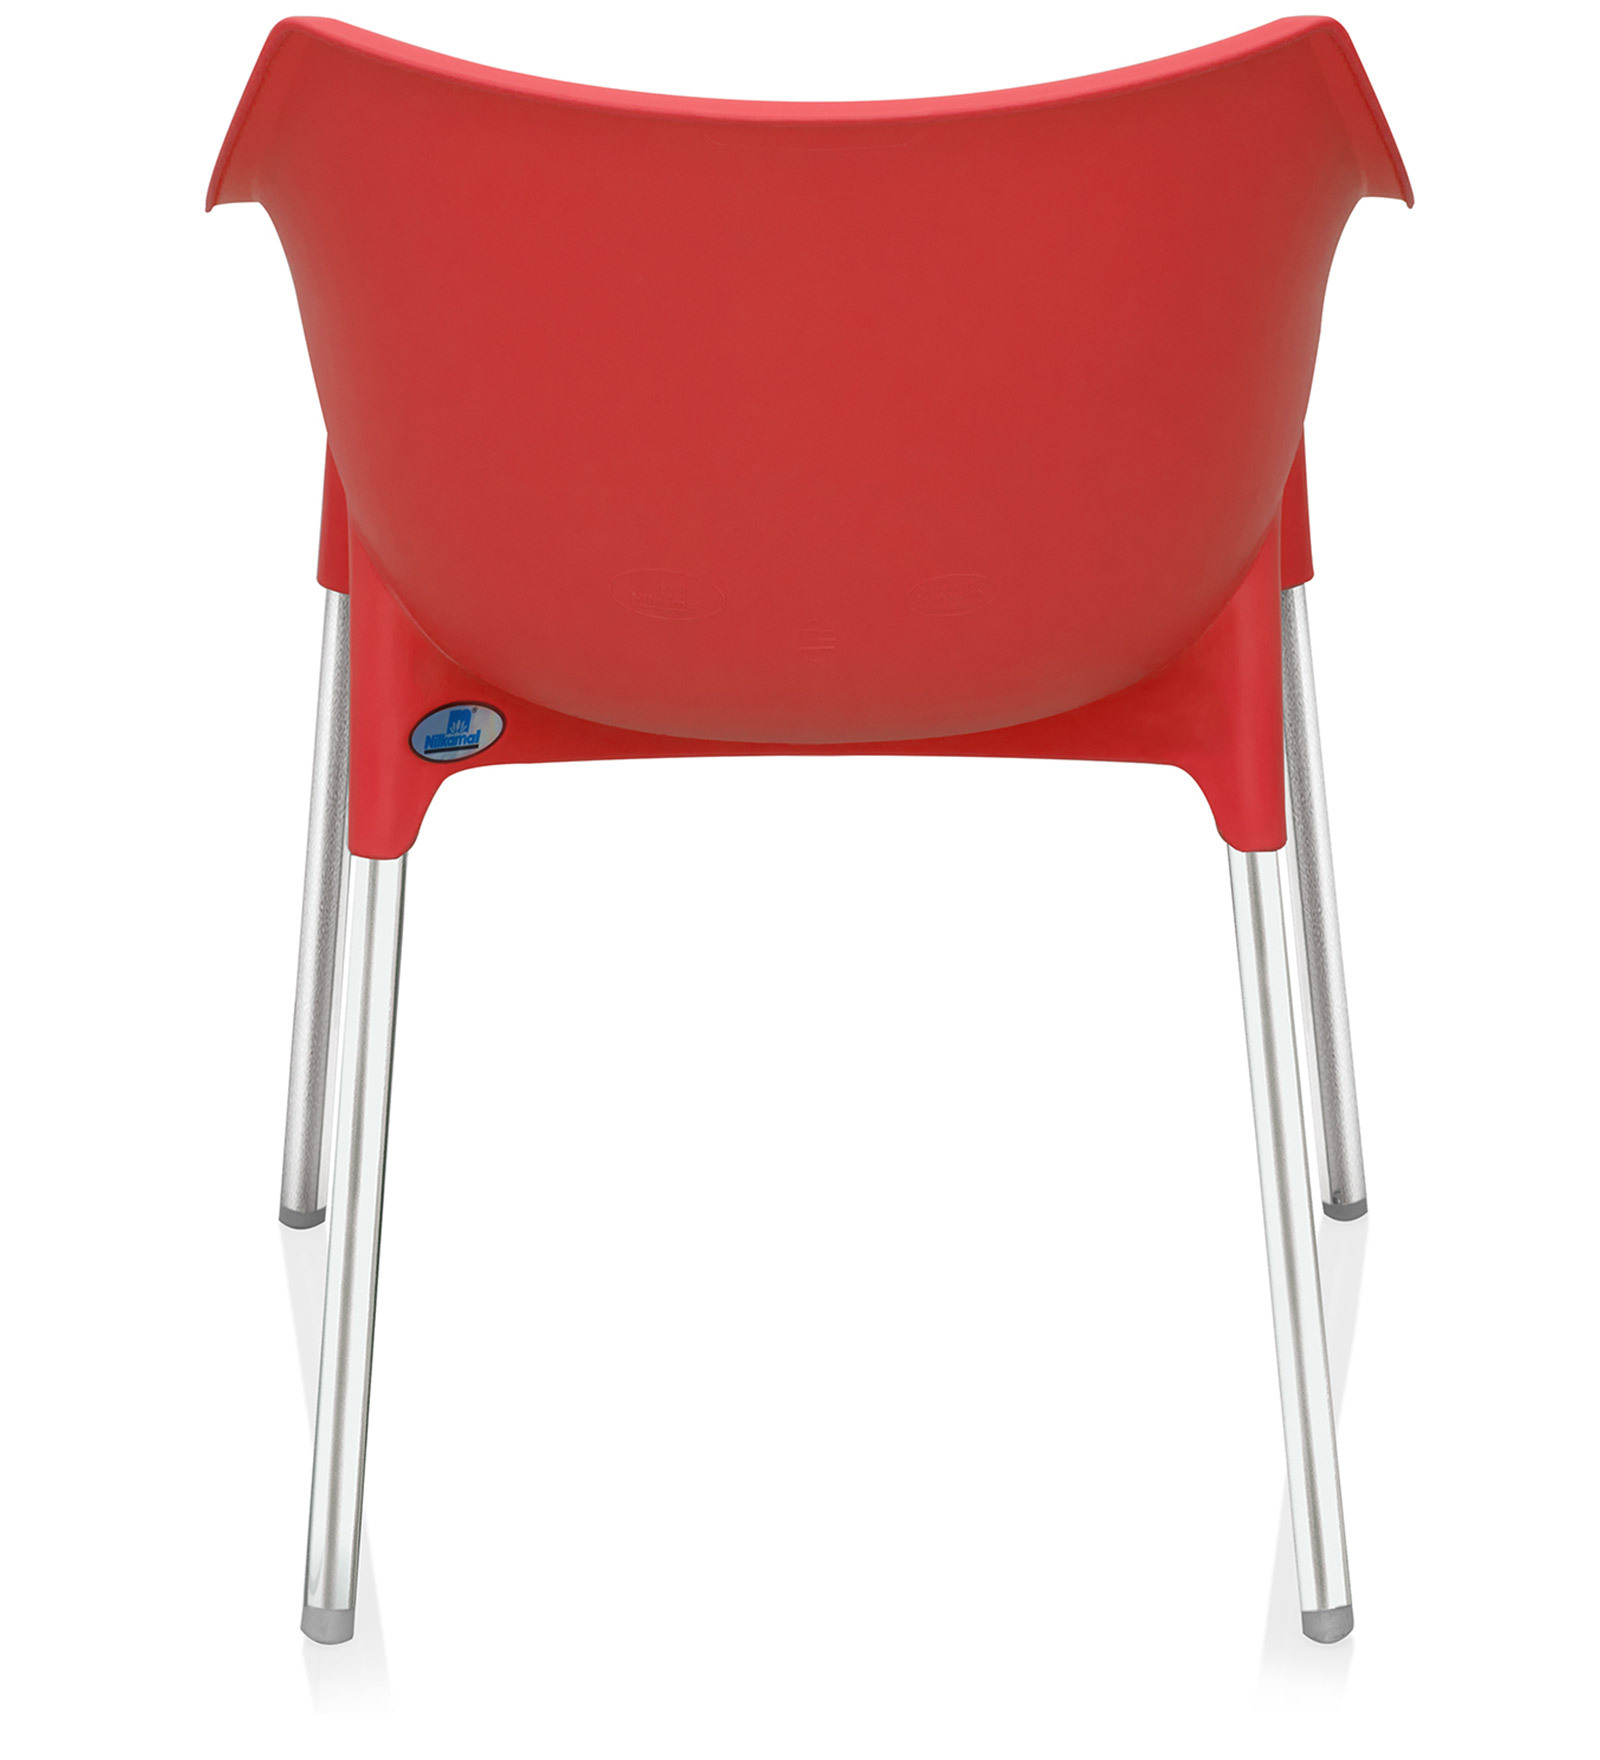Novella Series - 10 Set of 2 Chairs in Red Color by Nilkamal: (198, 9, 1413, 1643)
